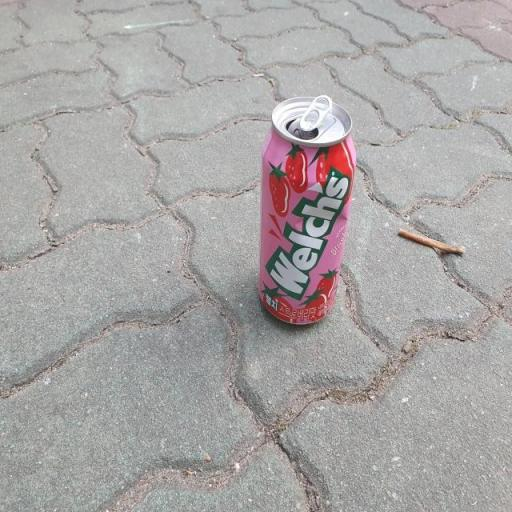metal: (242, 80, 378, 362)
